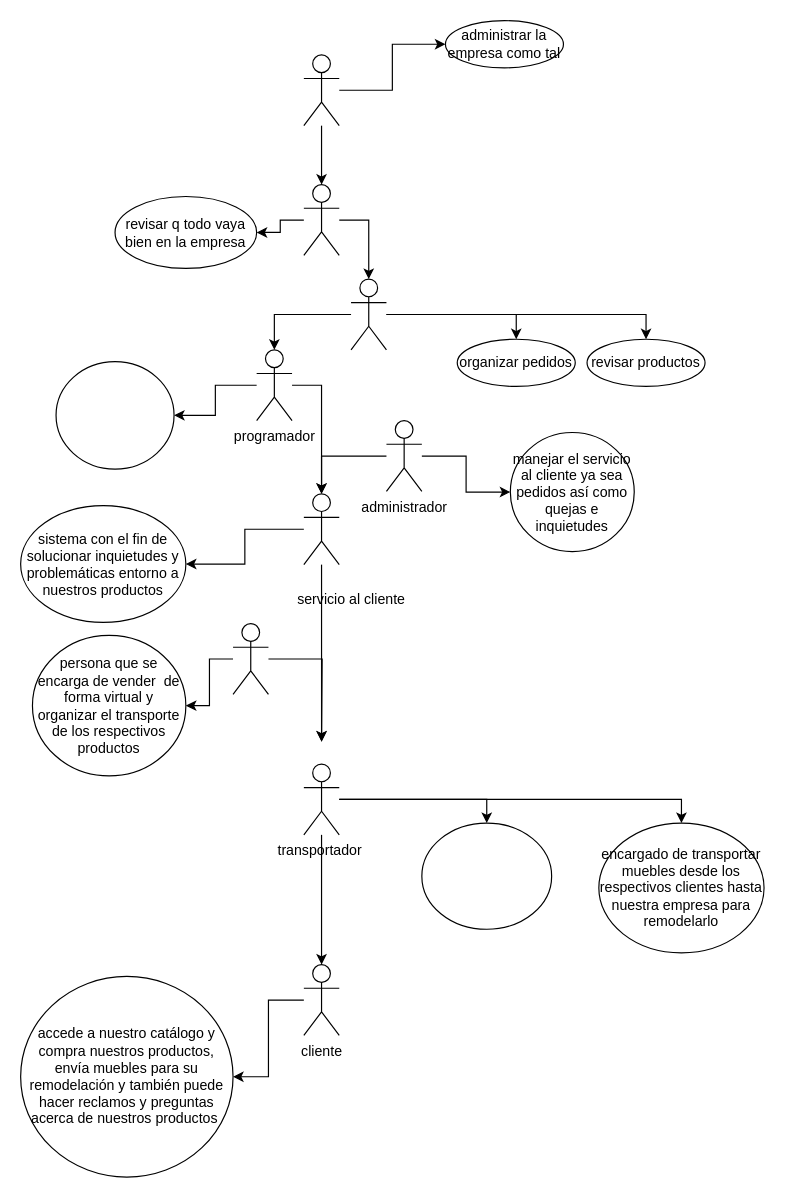
This 785x1198 diagram has some shape labels left out. The shapes that lost their labels are listed below. From the top down, each one's centre as x and y in pixels, then its label:
At pixel 321 90: "CEO".
At pixel 321 219: "gerente".
At pixel 368 314: "asesor".
At pixel 114 414: "revisar y crear aplicativos con el fin de la venta de muebles".
At pixel 250 658: "vendedor virtual".
At pixel 486 875: "encargado de transportar la mercancías de nuestra empresa a clientes".
